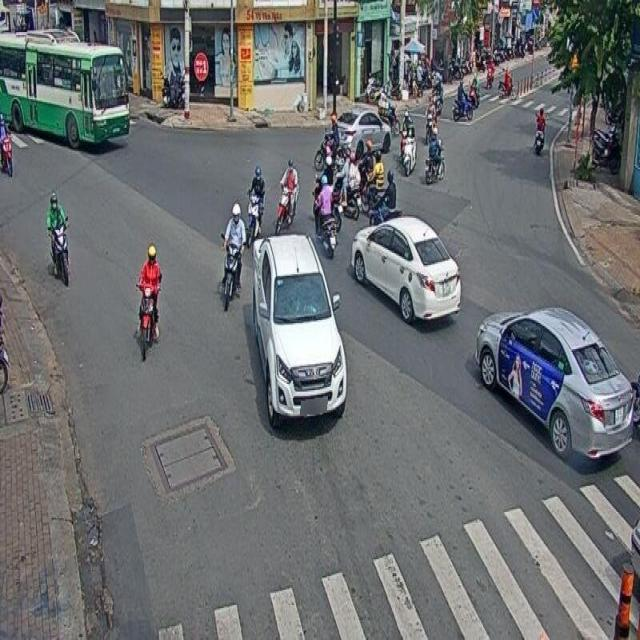bus: (0, 22, 130, 146)
car: (475, 306, 633, 460), (253, 233, 346, 427), (350, 215, 461, 324), (336, 108, 391, 157)
motorcycle: (138, 243, 162, 359), (220, 203, 245, 311), (46, 192, 70, 288), (312, 175, 337, 258), (276, 157, 299, 233), (246, 166, 265, 245), (424, 128, 446, 186), (403, 119, 417, 178)
